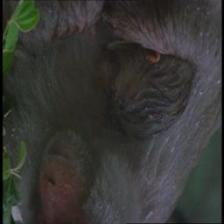monkey: (25, 127, 97, 223), (89, 38, 131, 126)
